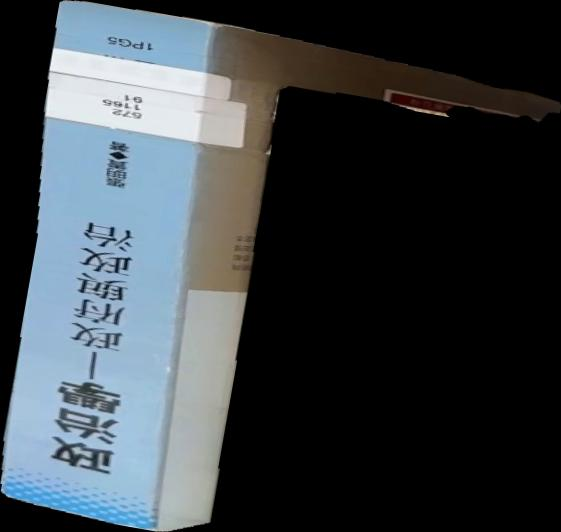reverse: (1, 1, 561, 532)
